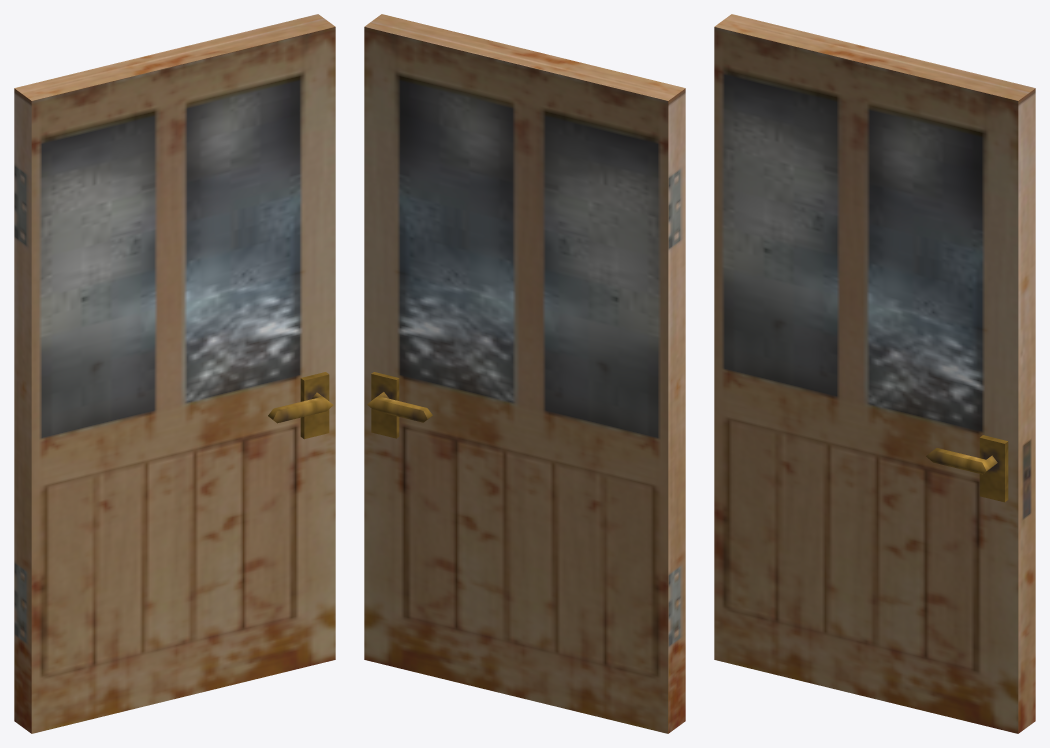
File: door_006.obj
3 views of the same model, side by side, from view 1: azimuth 30°, elevation 25°; view 2: azimuth 150°, elevation 25°; view 3: azimuth 330°, elevation 25° (orthographic).
Parts seen in each view (by area): view 1: Door05, DoorHandle_Handle; view 2: Door05, DoorHandle_Handle.001; view 3: Door05, DoorHandle_Handle.
Boxes of the visible parts, bbox=[...] form: Door05: bbox=[14, 14, 335, 733]; DoorHandle_Handle: bbox=[268, 372, 333, 439]; Door05: bbox=[364, 14, 685, 733]; DoorHandle_Handle.001: bbox=[367, 372, 432, 438]; Door05: bbox=[714, 14, 1035, 733]; DoorHandle_Handle: bbox=[926, 435, 1008, 502].
Bounding box in the file's own units: 1 × 1.99 × 0.265.
2 materials, 2 textured.
